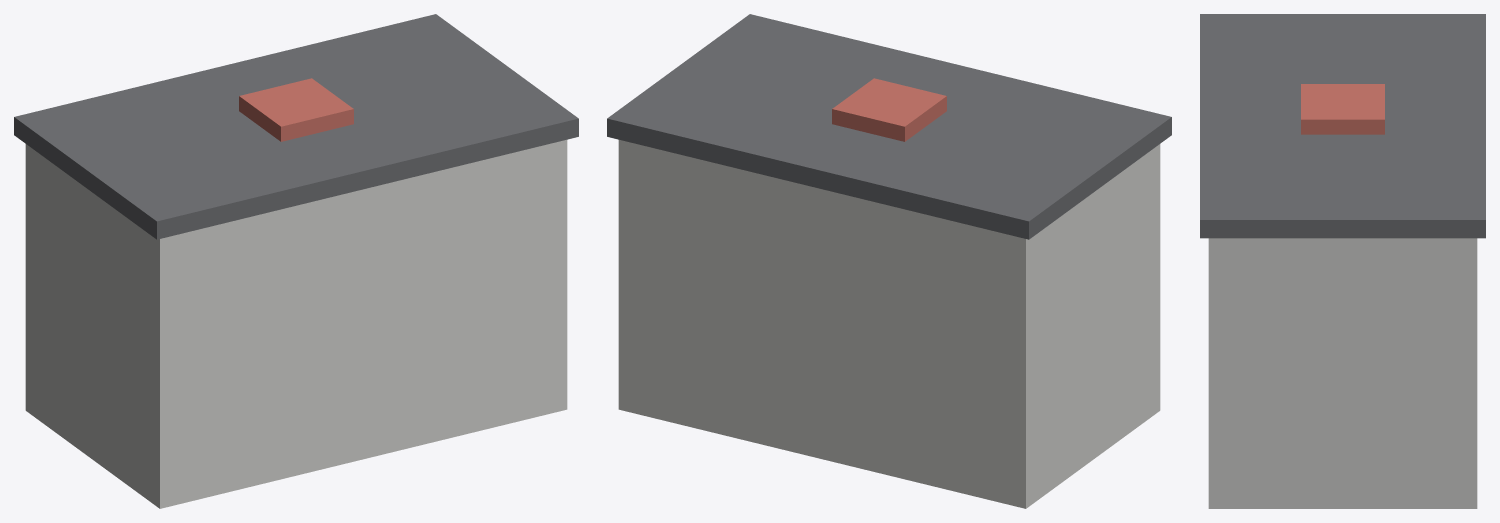
The model's file is deploy_medtable.glb.
The picture shows the model from 3 angles, left to right: view 1: azimuth 30°, elevation 25°; view 2: azimuth 150°, elevation 25°; view 3: azimuth 270°, elevation 25°; orthographic projection.
Parts seen in each view (by area): view 1: deploy_medtable; view 2: deploy_medtable; view 3: deploy_medtable.
Part boxes in pixels (bbox=[...]): deploy_medtable: bbox=[14, 14, 578, 508]; deploy_medtable: bbox=[607, 14, 1171, 508]; deploy_medtable: bbox=[1200, 14, 1485, 508].
Bounding box in the file's own units: 1.45 × 1.01 × 0.85.
